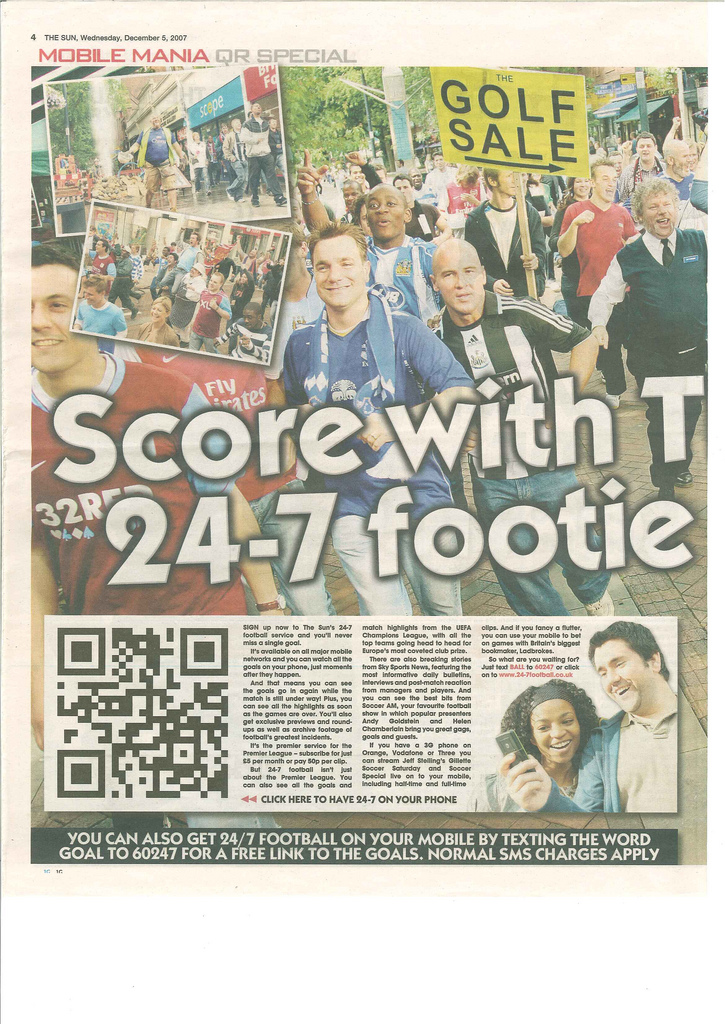QR-CODE: (57, 628, 227, 797)
